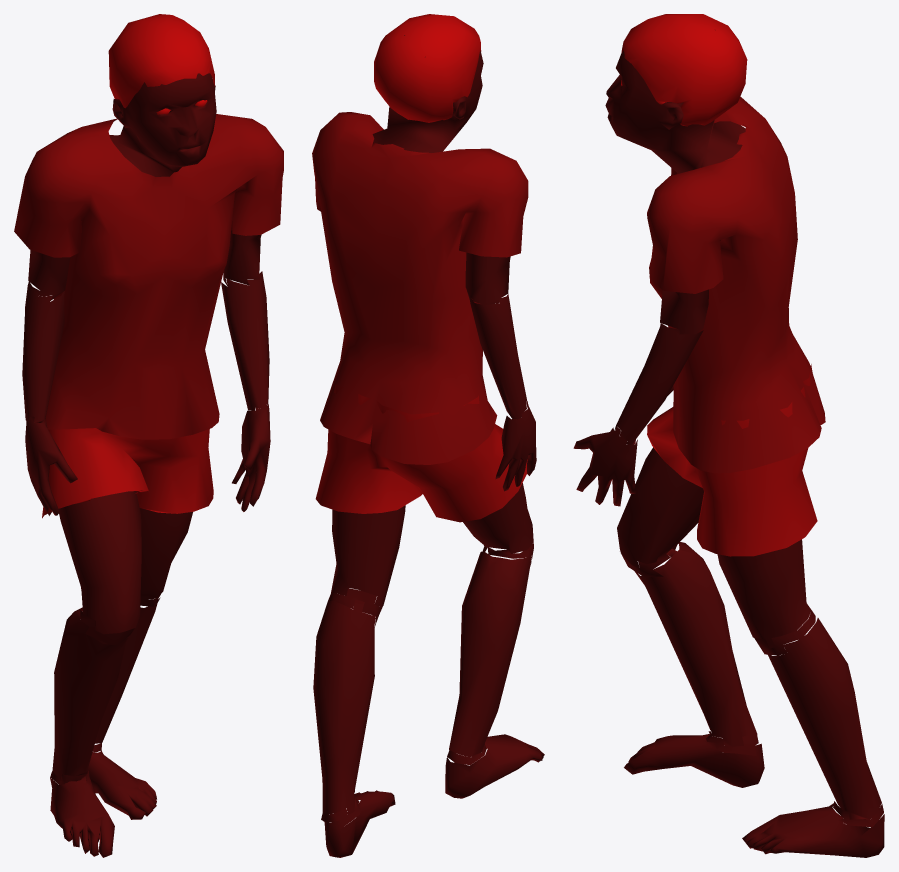
File: crowd_kidStand.glb
3 views of the same model, side by side, from view 1: azimuth 30°, elevation 25°; view 2: azimuth 150°, elevation 25°; view 3: azimuth 270°, elevation 25° (orthographic). The views are drawn at different scales.
Visible parts, largest first — view 1: kidStand; view 2: kidStand; view 3: kidStand.
Part boxes in pixels (left/top/right/bottom): kidStand: left=14, top=14, right=283, bottom=857; kidStand: left=312, top=14, right=544, bottom=857; kidStand: left=573, top=14, right=884, bottom=857.
Bounding box in the file's own units: 0.4066 × 1.37 × 0.4618.
